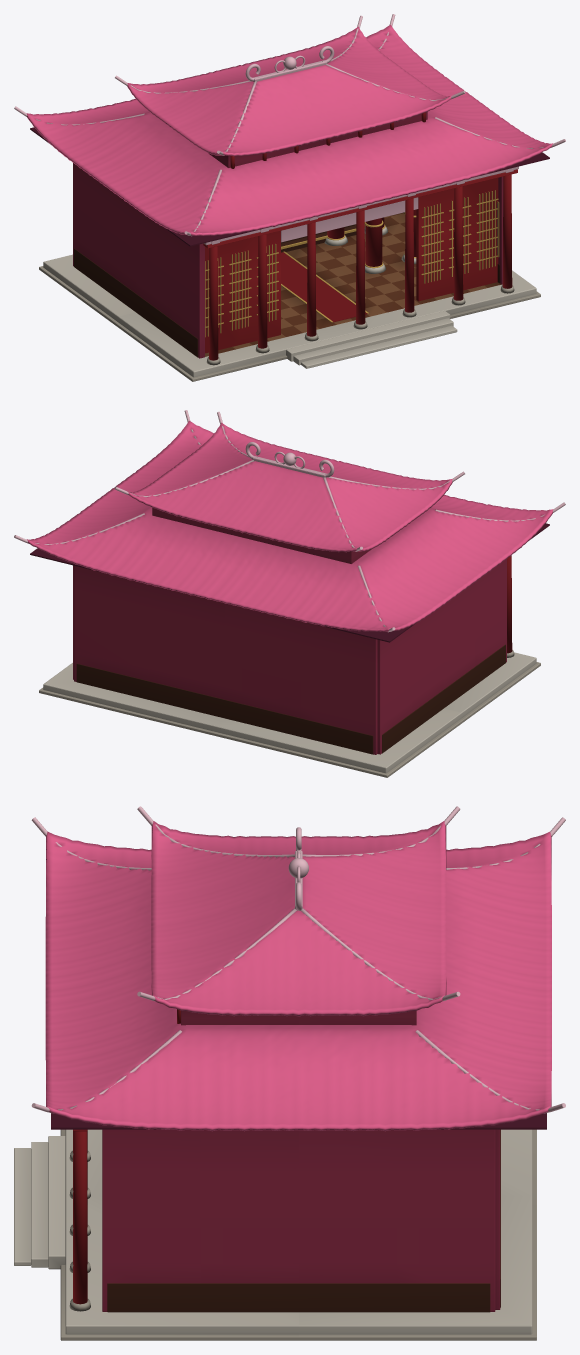
The model's file is nguyet-lao.glb.
3 renders of one model, top to bottom at view 1: azimuth 30°, elevation 25°; view 2: azimuth 150°, elevation 25°; view 3: azimuth 270°, elevation 25°, orthographic. The views are drawn at different scales.
Parts seen in each view (by area): view 1: nguyet-lao-shell; view 2: nguyet-lao-shell; view 3: nguyet-lao-shell.
Part boxes in pixels (<box>): nguyet-lao-shell: <box>14,14,565,381</box>; nguyet-lao-shell: <box>14,410,565,777</box>; nguyet-lao-shell: <box>14,806,565,1340</box>.
Bounding box in the file's own units: 27.76 × 15.87 × 22.48.
